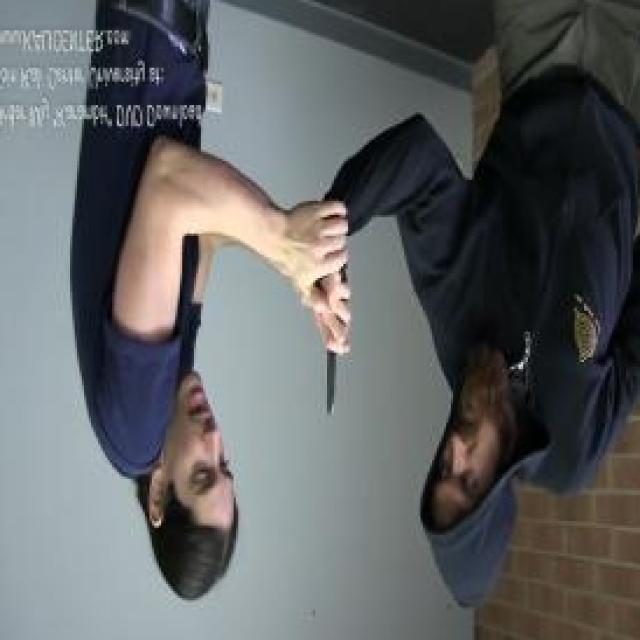knife: (313, 288, 356, 420)
